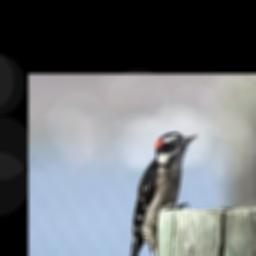Woodpecker: (129, 131, 198, 256)
